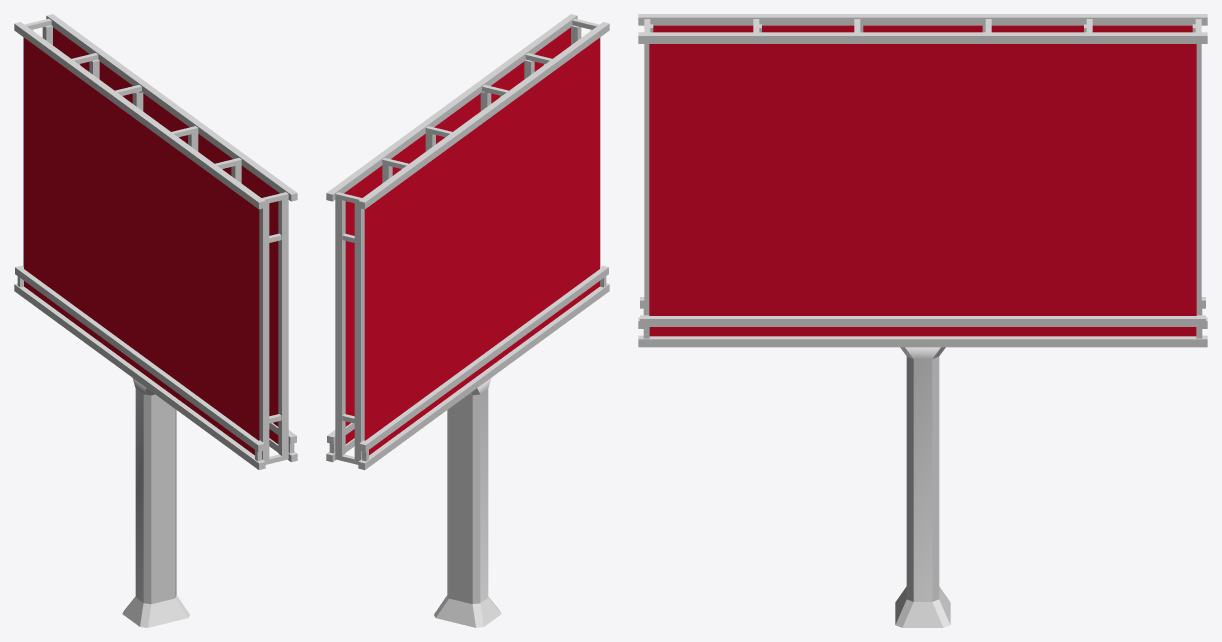
Rendered from BillBoard2.fbx.
3 views of the same model, side by side, from view 1: azimuth 30°, elevation 25°; view 2: azimuth 150°, elevation 25°; view 3: azimuth 270°, elevation 25° (orthographic). The views are drawn at different scales.
Parts seen in each view (by area): view 1: BillBoard2; view 2: BillBoard2; view 3: BillBoard2.
Boxes of the visible parts, <box> form: BillBoard2: <box>14,14,297,627</box>; BillBoard2: <box>326,14,609,627</box>; BillBoard2: <box>638,14,1207,627</box>.
Size of the model in its own units: 73.61 by 709 by 622.
